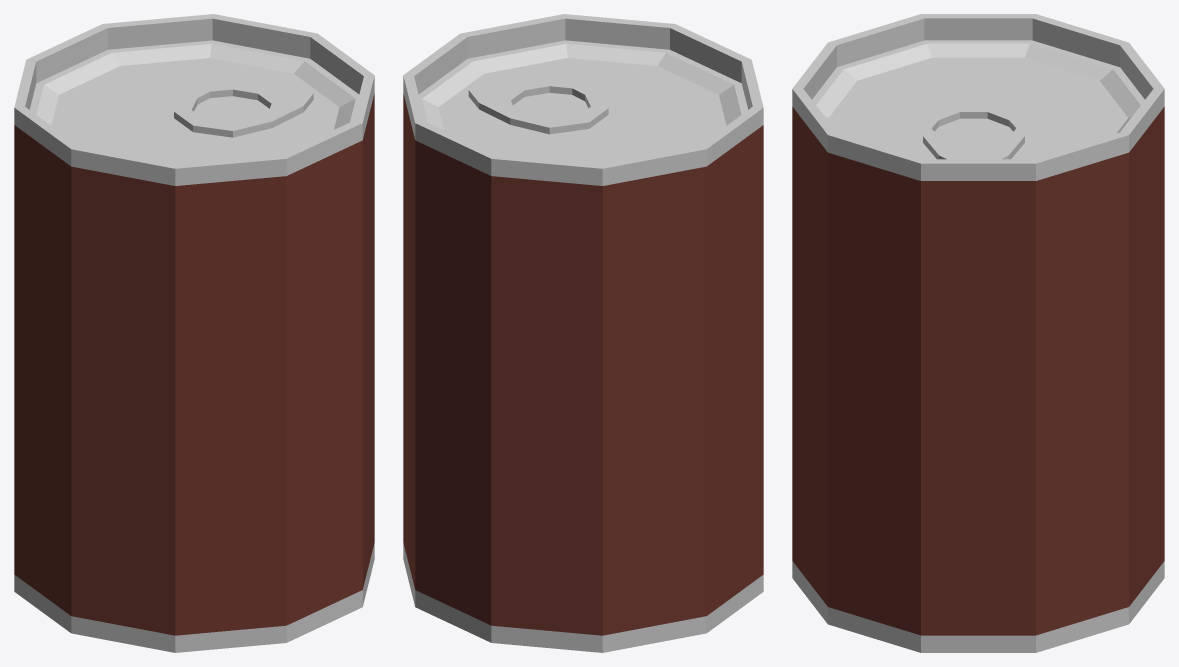
The model's file is Ma_Canned_Medium.fbx.
The picture shows the model from 3 angles, left to right: view 1: azimuth 30°, elevation 25°; view 2: azimuth 150°, elevation 25°; view 3: azimuth 270°, elevation 25°; orthographic projection.
Visible parts, largest first — view 1: Ma_Canned_Medium; view 2: Ma_Canned_Medium; view 3: Ma_Canned_Medium.
Boxes of the visible parts, box(x1,y1,x2,y2) form: Ma_Canned_Medium: box(14, 14, 374, 652); Ma_Canned_Medium: box(403, 14, 763, 652); Ma_Canned_Medium: box(792, 14, 1164, 652).
Size of the model in its own units: 59.41 by 62.47 by 90.58.
